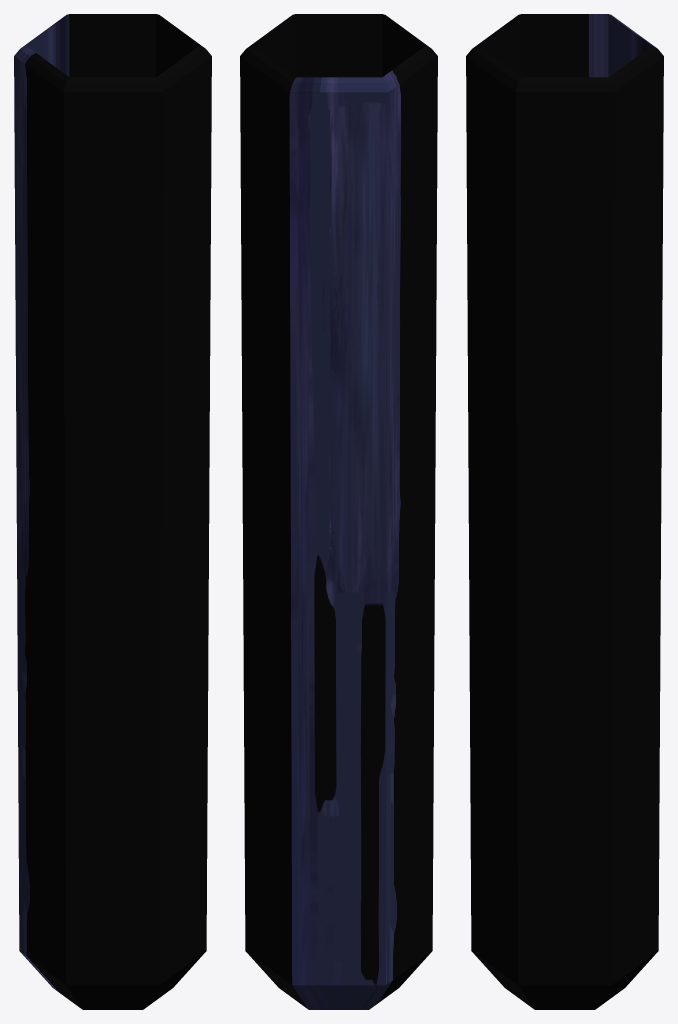
File: obj_Pencil_008.obj
3 views of the same model, side by side, from view 1: azimuth 30°, elevation 25°; view 2: azimuth 150°, elevation 25°; view 3: azimuth 270°, elevation 25° (orthographic).
Visible parts, largest first — view 1: obj_Pencil.008; view 2: obj_Pencil.008; view 3: obj_Pencil.008.
Part boxes in pixels (box(x1,y1,x2,y2)): obj_Pencil.008: box(14, 14, 211, 1009); obj_Pencil.008: box(240, 14, 437, 1009); obj_Pencil.008: box(466, 14, 663, 1009).
Bounding box in the file's own units: 0.0162 × 0.0982 × 0.0187.
